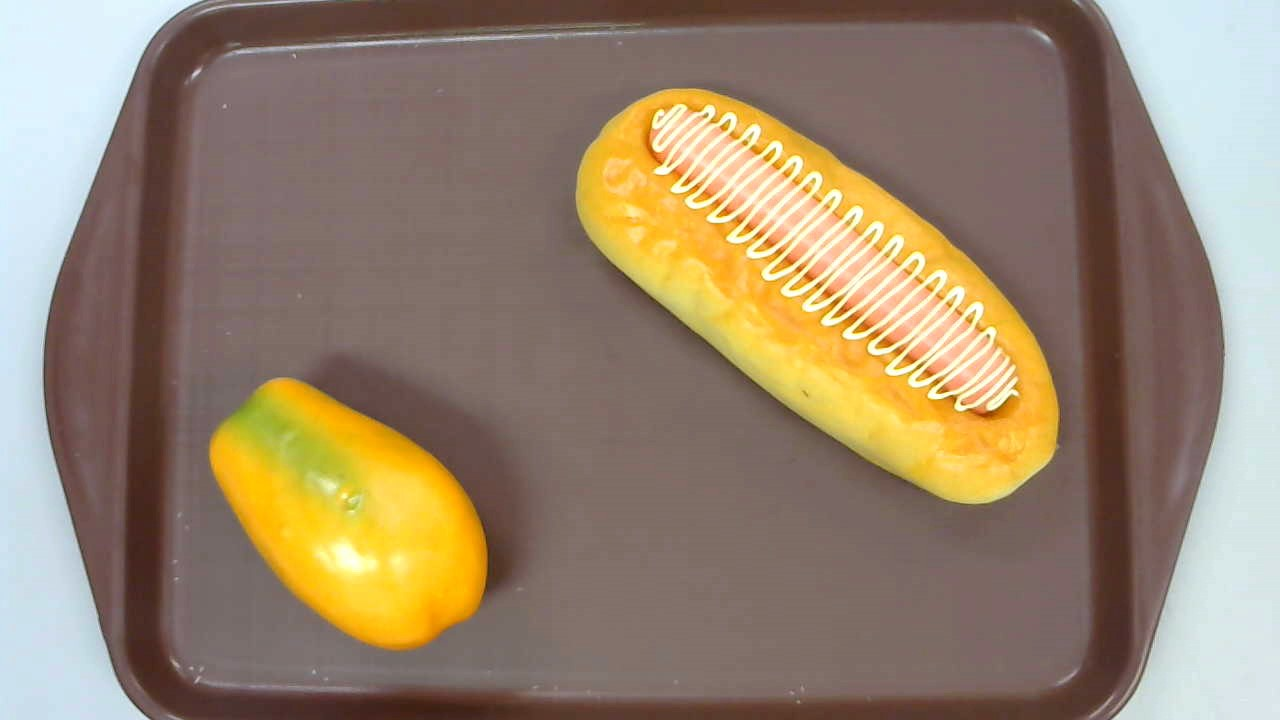hot dog: (576, 86, 1059, 503)
papya: (209, 377, 488, 653)
